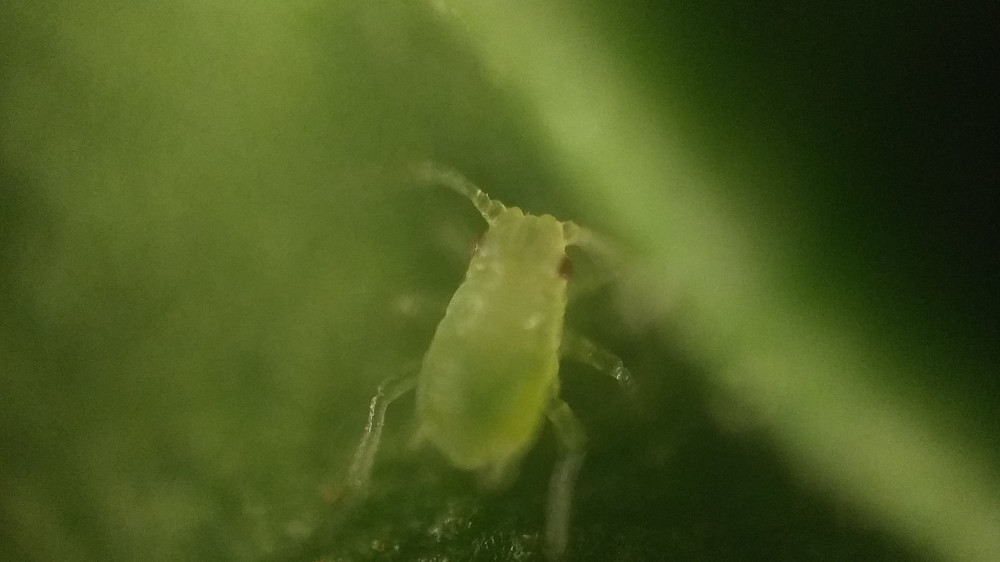Pulgon: (301, 146, 732, 552)
